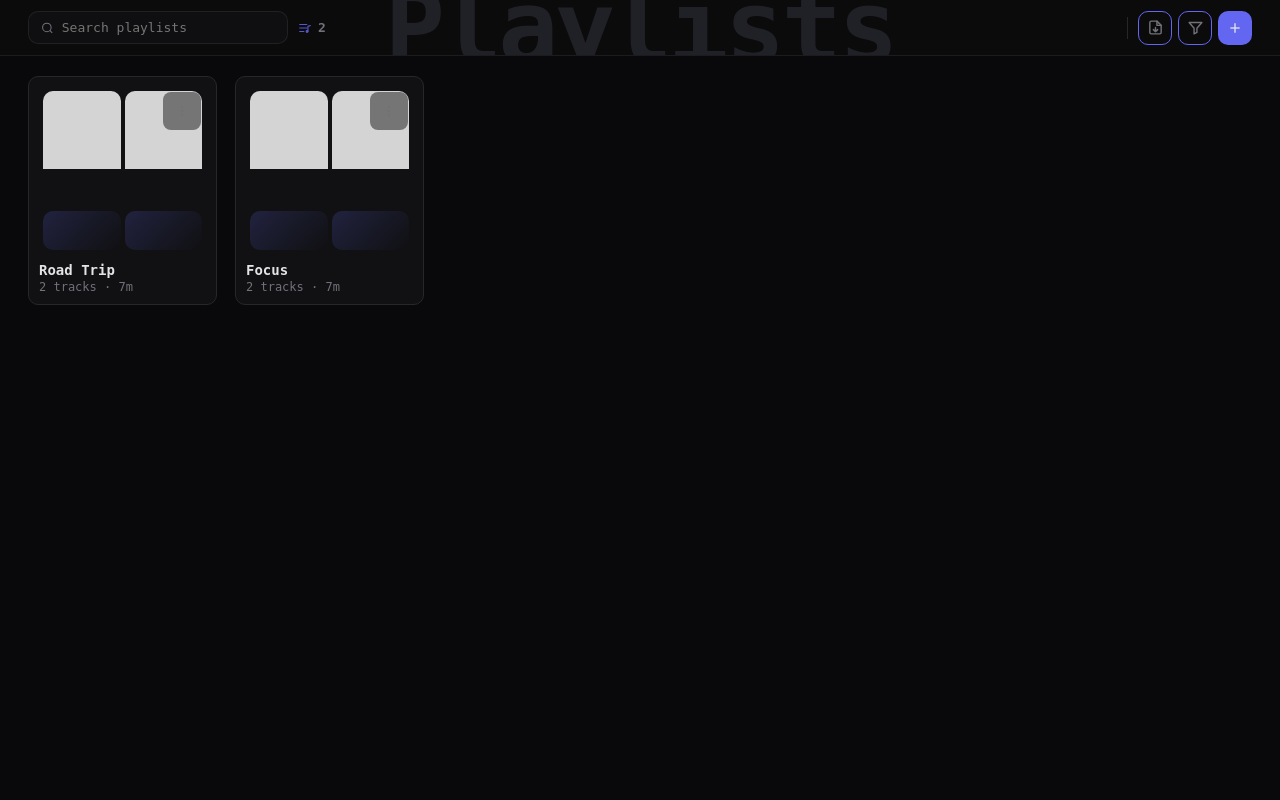
Scenario: PlaylistsView integration flows › opens a playlist's options from the grid without opening it, and deletes only that playlist
Expected: the text "Road Trip" is shown, [39,262,115,278]
Click the 2nd button named "More actions": (389, 111) [370,92,408,130]
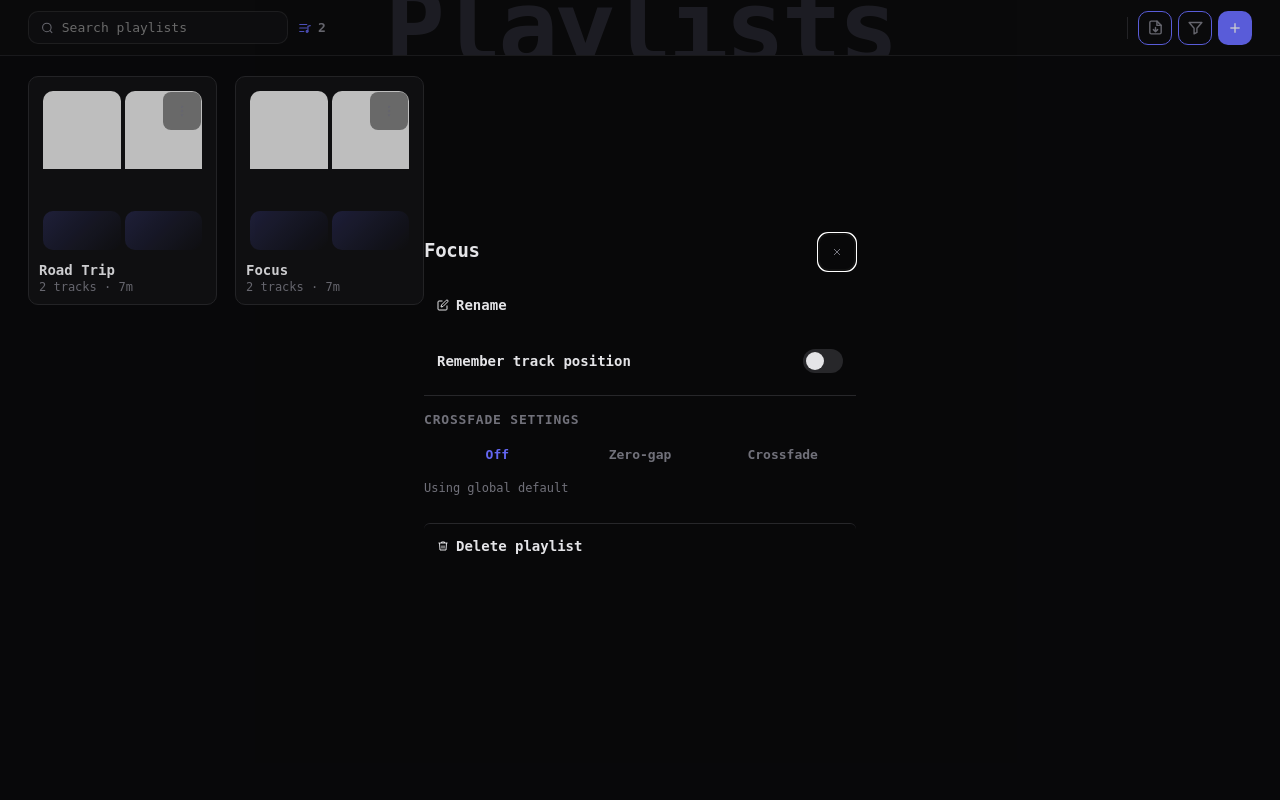
Result: the dialog "Focus" is shown at [424,233,856,567]
Click the button titled "Delete playlist": (519, 546) [424,523,856,567]
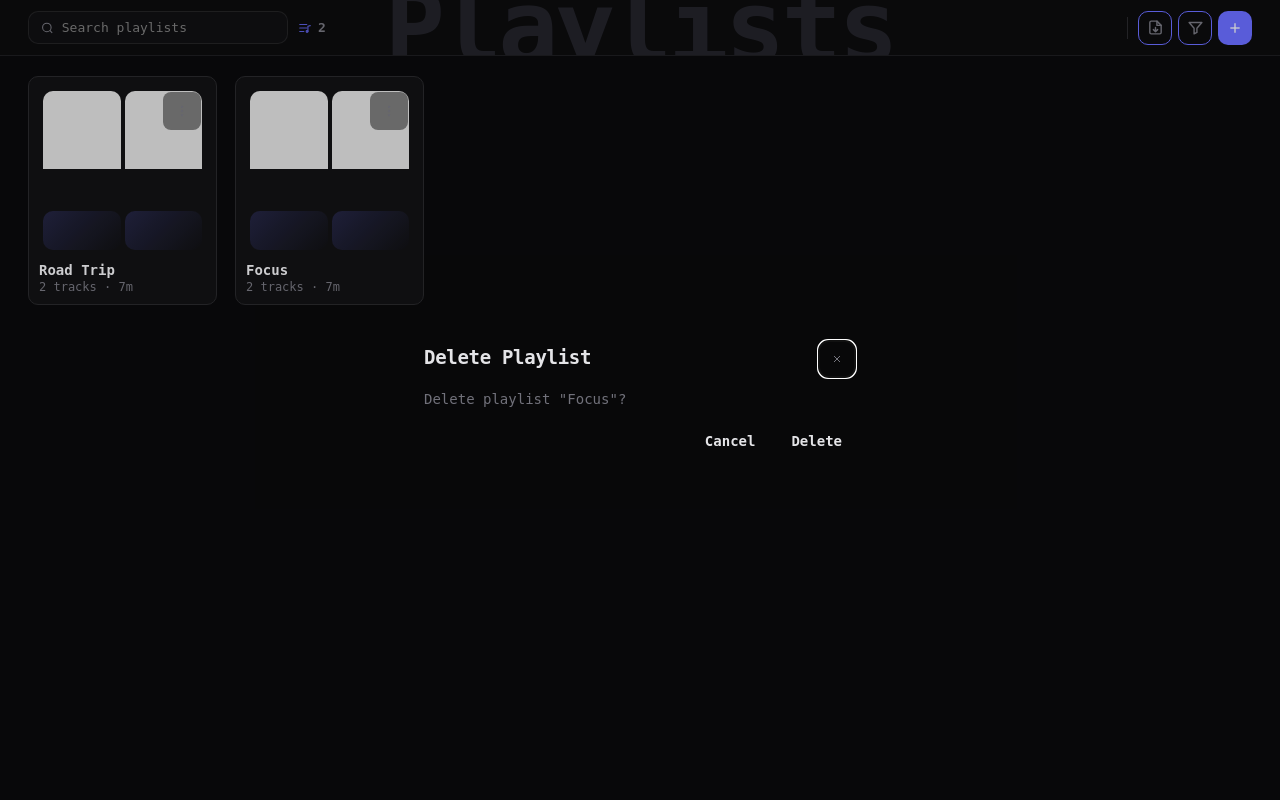
Click the button "Delete": (817, 441) [777,422,856,460]
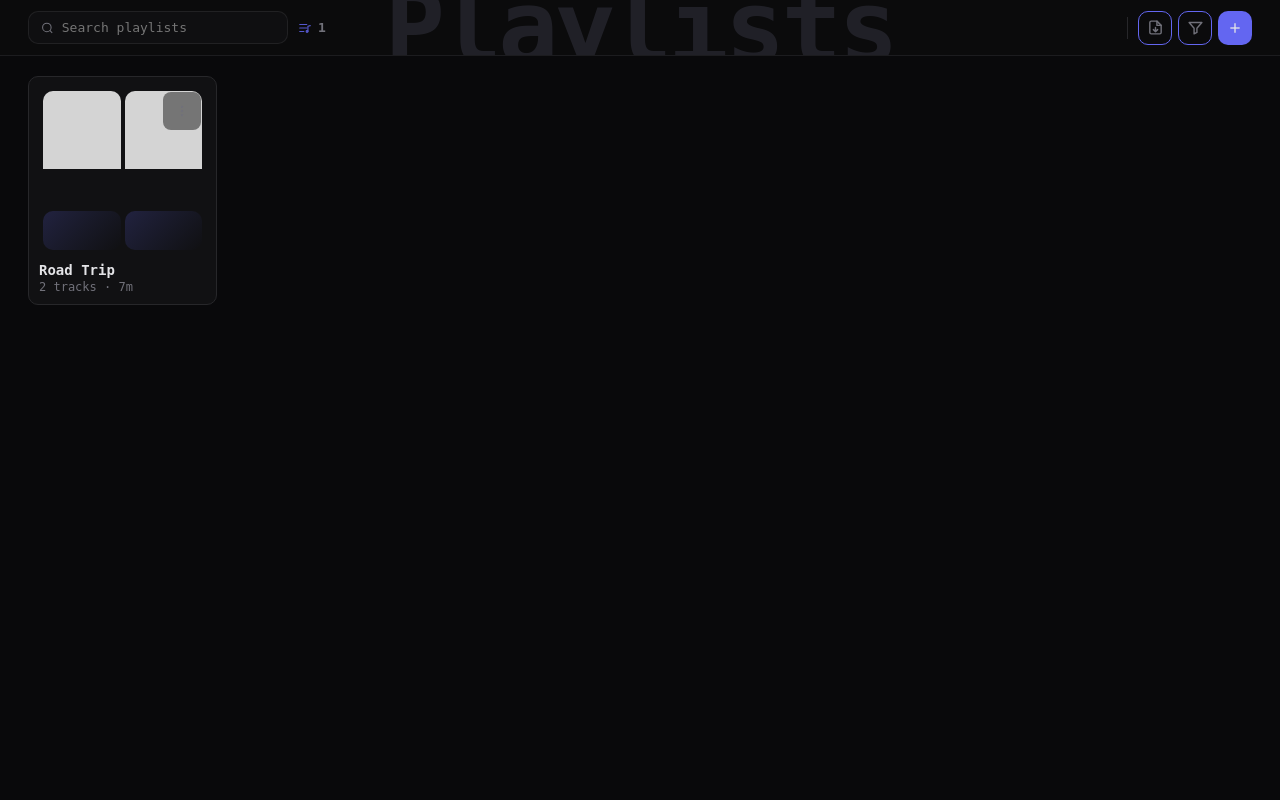
Expected: the text "Road Trip" is shown, [39,262,115,278]
Result: the dialog is gone
Result: the button "Focus" is gone
